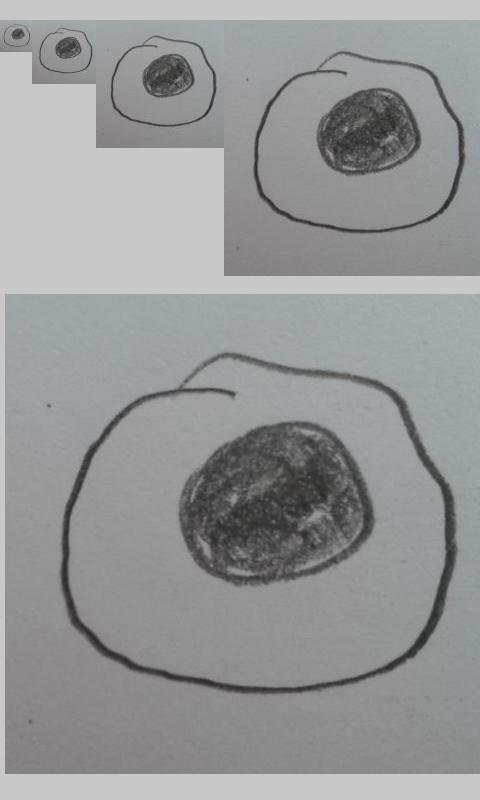radio_button: (58, 350, 458, 696), (252, 50, 466, 234), (110, 35, 217, 127), (38, 27, 94, 74), (3, 23, 31, 48)
